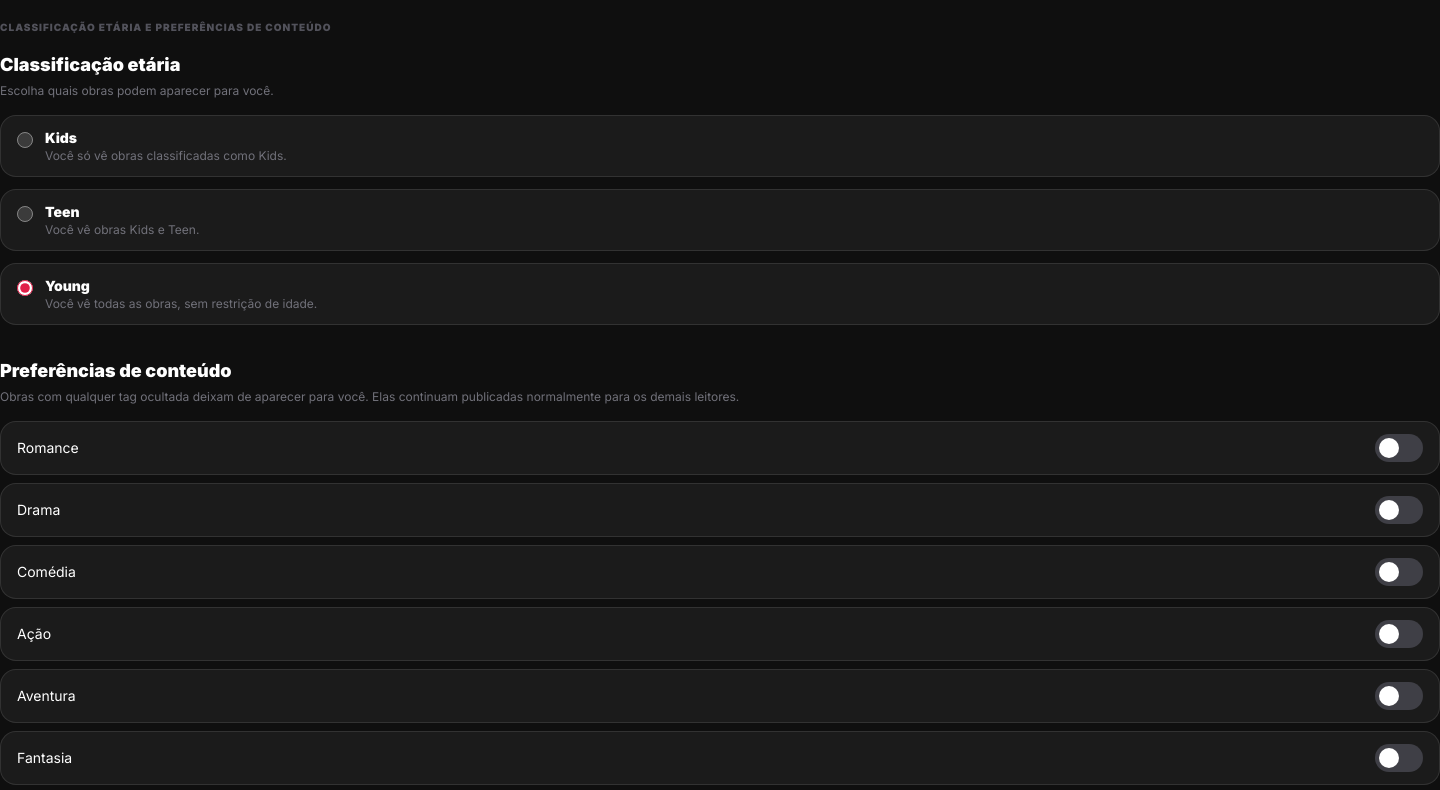
Scenario: ParentalSettings — salvar com PIN › 401 com tentativasRestantes > 0 — mostra a contagem
The width and height of the screenshot is (1440, 790).
Expected: the heading "Classificação etária e Preferências de conteúdo" is shown, [0,21,331,33]
Click the radio button labelled "Teen Você vê obras Kids e Teen.". click: (25, 214)
box: [17,206,33,222]
(page scrolled)
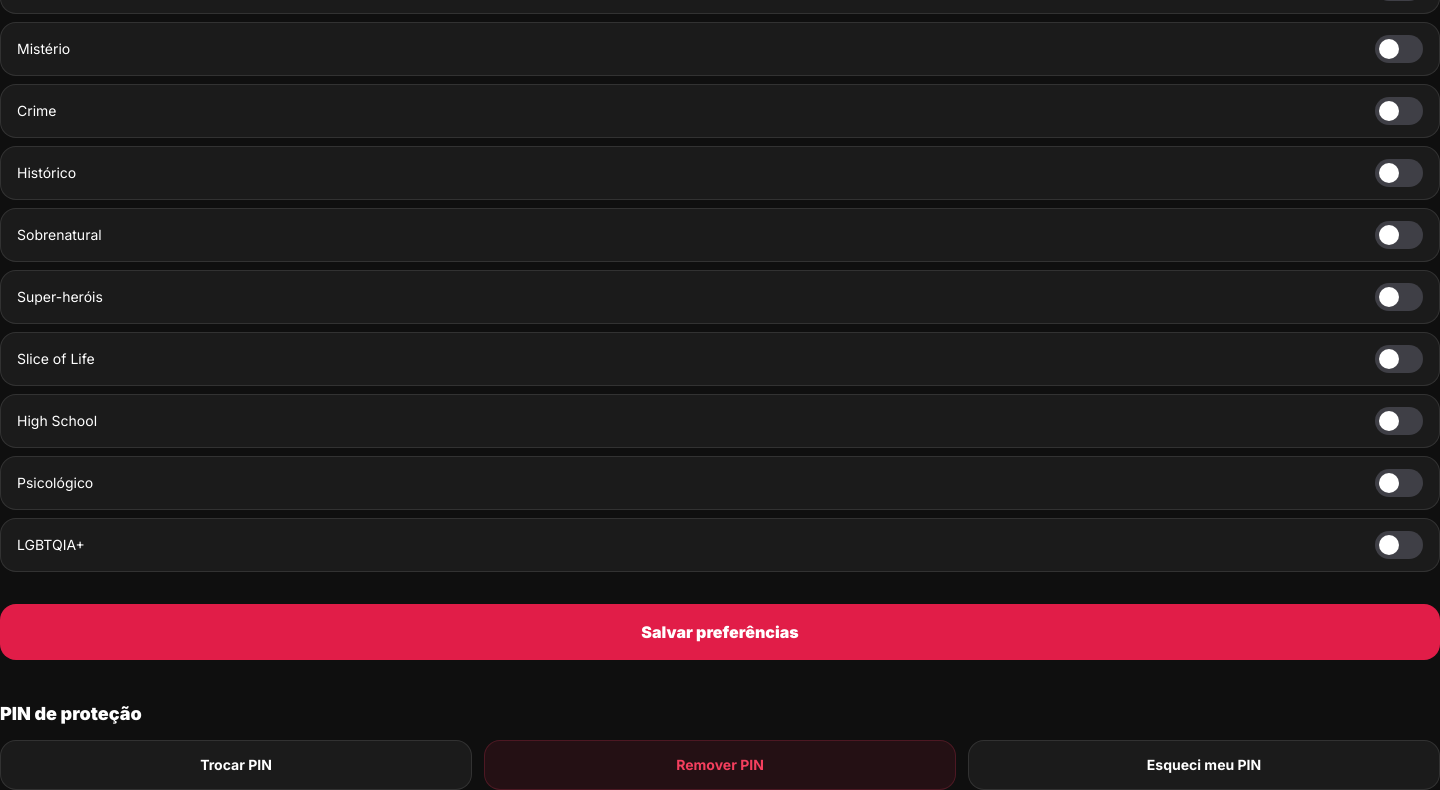
Click the button "Salvar preferências". click: (720, 632)
box: [0,604,1439,660]
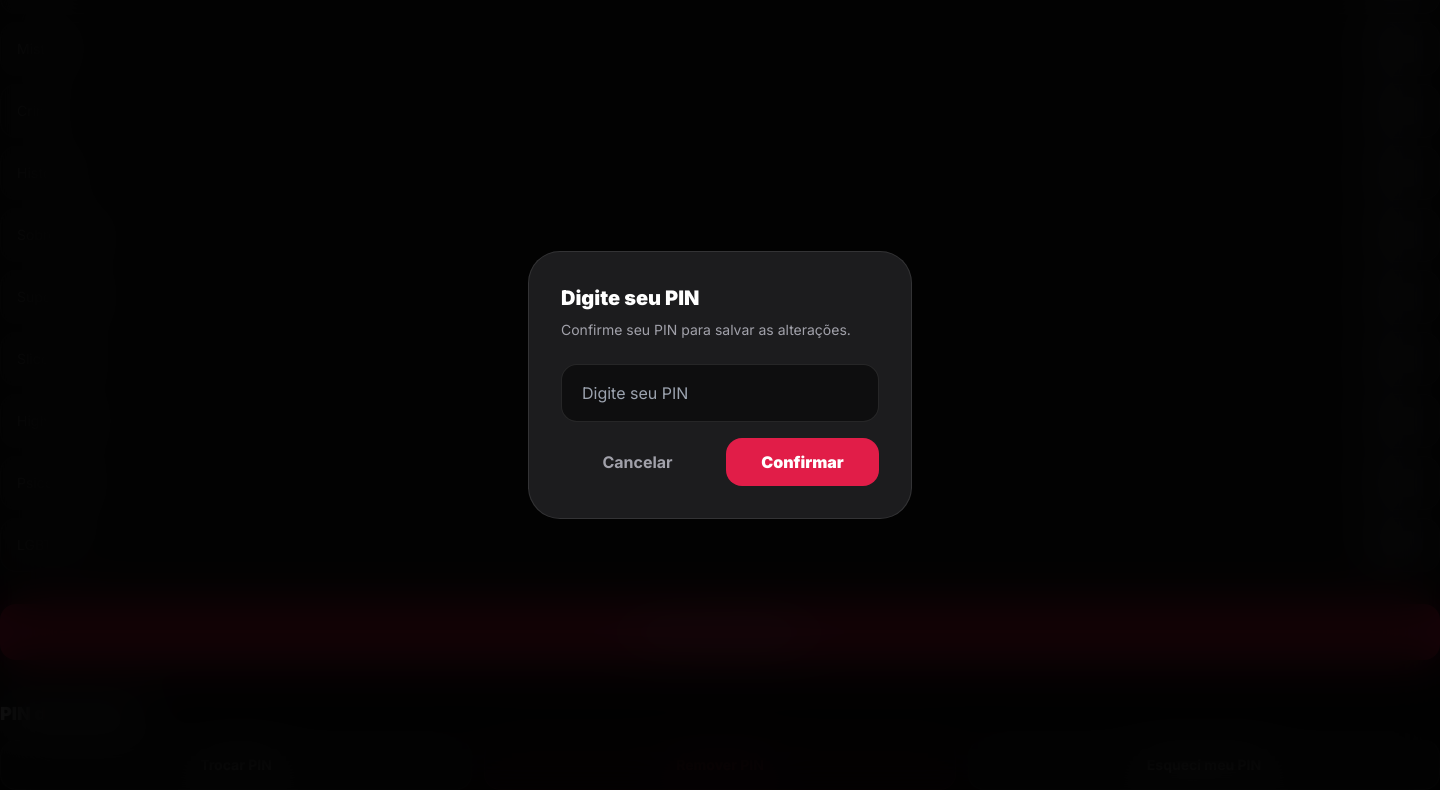
Type "0000" into the password field with test id "pin-gate-input". click: (720, 393)
box: [561,364,879,422]
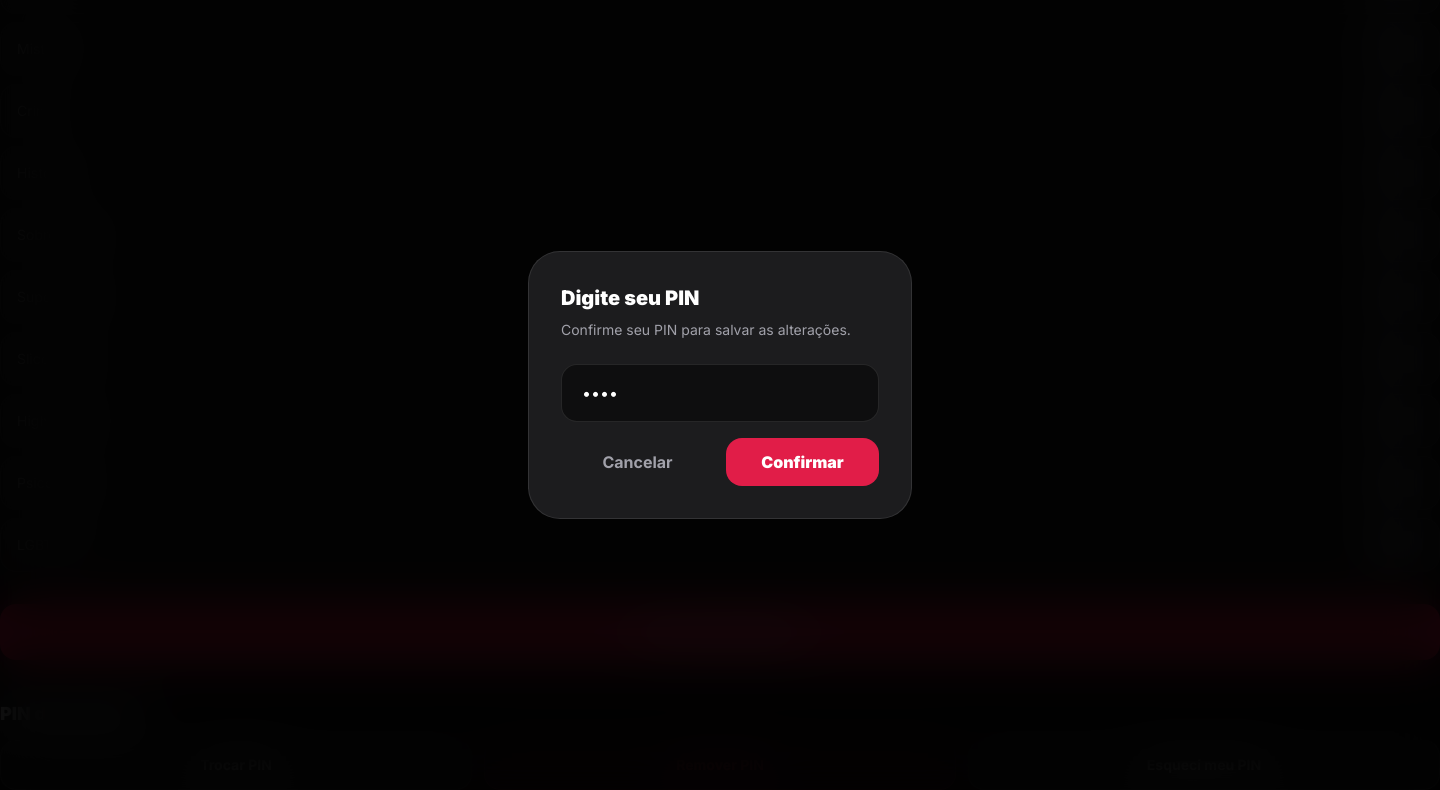
Click the button with test id "pin-gate-confirm". click: (802, 462)
box: [726,438,879,486]
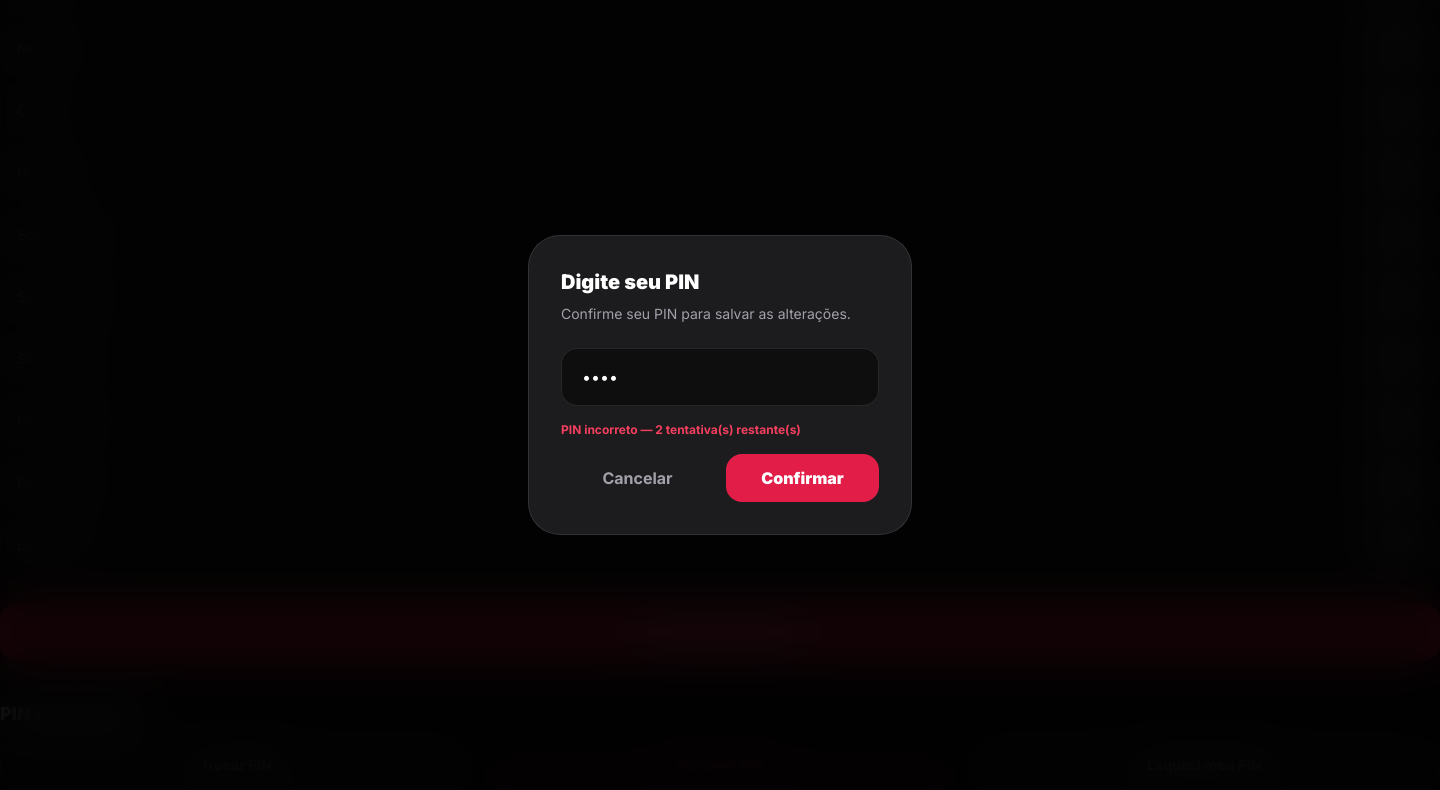
Expected: the text "PIN incorreto — 2 tentativa(s) restante(s)" is shown, [561,422,801,437]
